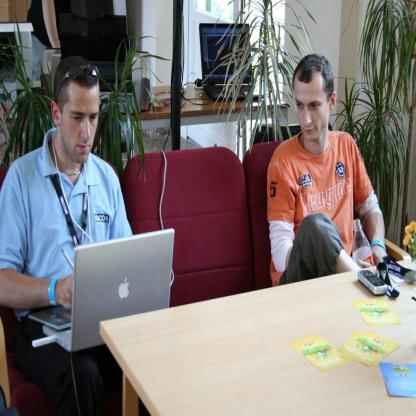board: (68, 233, 176, 349), (199, 22, 264, 104)
